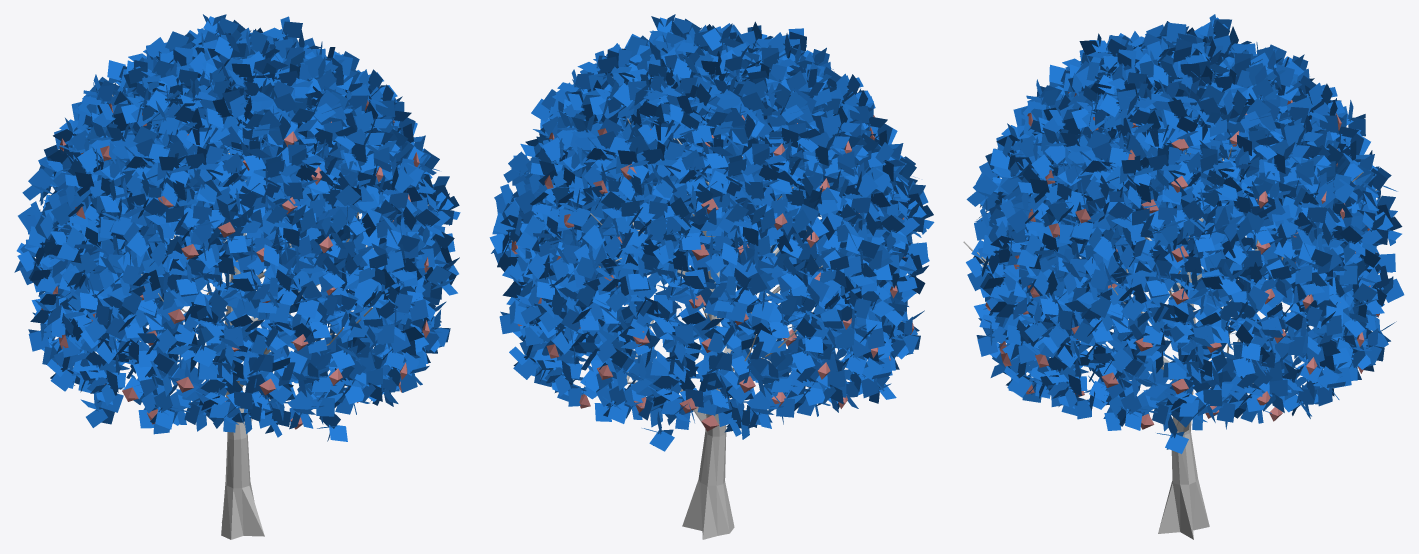
Rendered from SM_apple_tree.fbx.
3 views of the same model, side by side, from view 1: azimuth 30°, elevation 25°; view 2: azimuth 150°, elevation 25°; view 3: azimuth 270°, elevation 25° (orthographic).
Parts seen in each view (by area): view 1: Apple_; view 2: Apple_; view 3: Apple_.
Part boxes in pixels (x1,y1,x2,y2): Apple_: [14, 14, 460, 539]; Apple_: [489, 14, 934, 539]; Apple_: [963, 14, 1404, 539].
Bounding box in the file's own units: 503 × 631 × 505.
